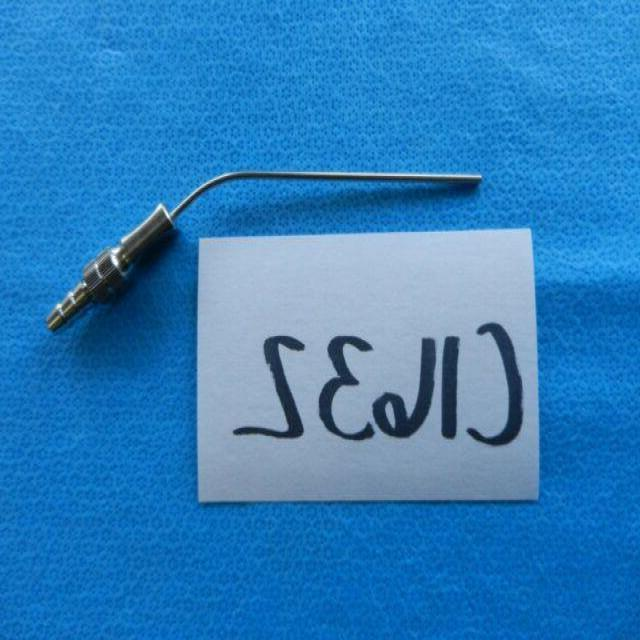Frazier: (42, 160, 486, 343)
